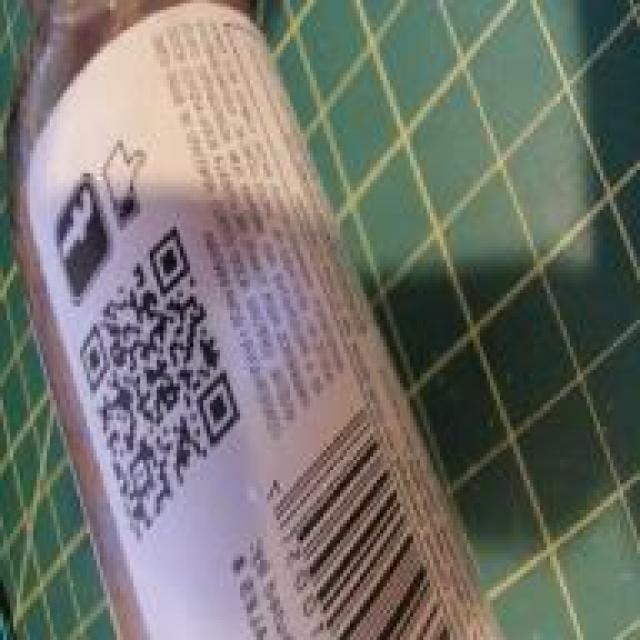QR_CODE: (68, 213, 250, 560)
